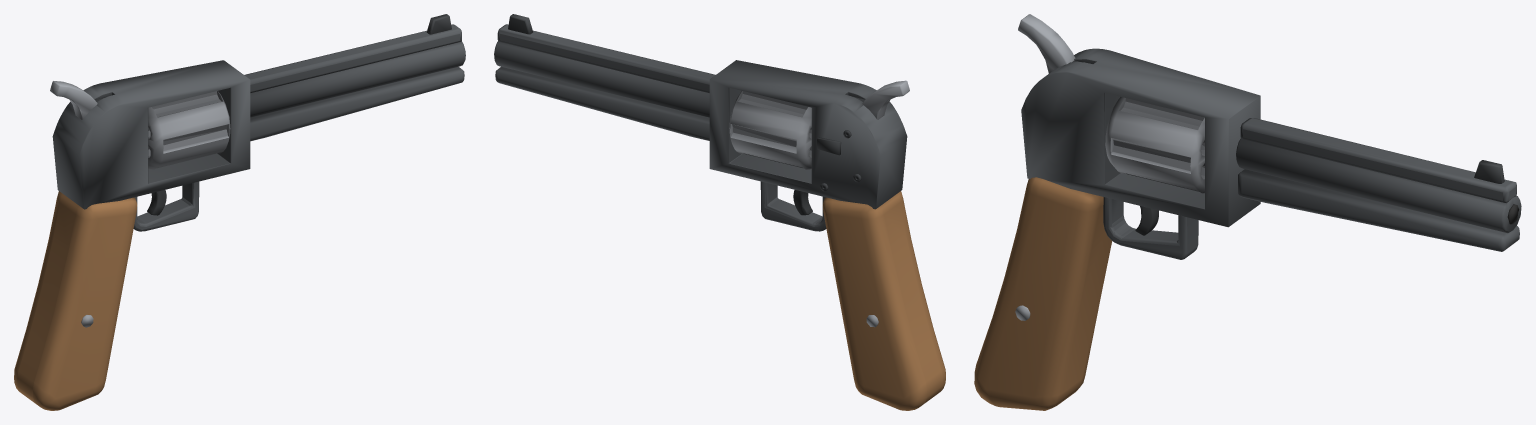
Rendered from revolver.glb.
The picture shows the model from 3 angles, left to right: view 1: azimuth 30°, elevation 25°; view 2: azimuth 150°, elevation 25°; view 3: azimuth 330°, elevation 25°; orthographic projection. The views are drawn at different scales.
Parts seen in each view (by area): view 1: lod_skin_paint, lod_detail_wood, lod_metal_steel, lod_metal_dark; view 2: lod_skin_paint, lod_detail_wood, lod_metal_steel, lod_metal_dark; view 3: lod_skin_paint, lod_detail_wood, lod_metal_steel, lod_metal_dark.
Part boxes in pixels (x1=…): lod_skin_paint: x1=52, y1=24, x2=465, y2=231; lod_detail_wood: x1=14, y1=191, x2=137, y2=410; lod_metal_steel: x1=50, y1=81, x2=230, y2=327; lod_metal_dark: x1=147, y1=14, x2=451, y2=215; lod_skin_paint: x1=494, y1=24, x2=907, y2=231; lod_detail_wood: x1=822, y1=191, x2=945, y2=410; lod_metal_steel: x1=729, y1=80, x2=909, y2=327; lod_metal_dark: x1=508, y1=14, x2=861, y2=215; lod_skin_paint: x1=1021, y1=48, x2=1521, y2=259; lod_detail_wood: x1=974, y1=177, x2=1112, y2=410; lod_metal_steel: x1=1015, y1=14, x2=1204, y2=320; lod_metal_dark: x1=1135, y1=160, x2=1504, y2=235.
Size of the model in its own units: 0.2634 by 0.1837 by 0.039.
